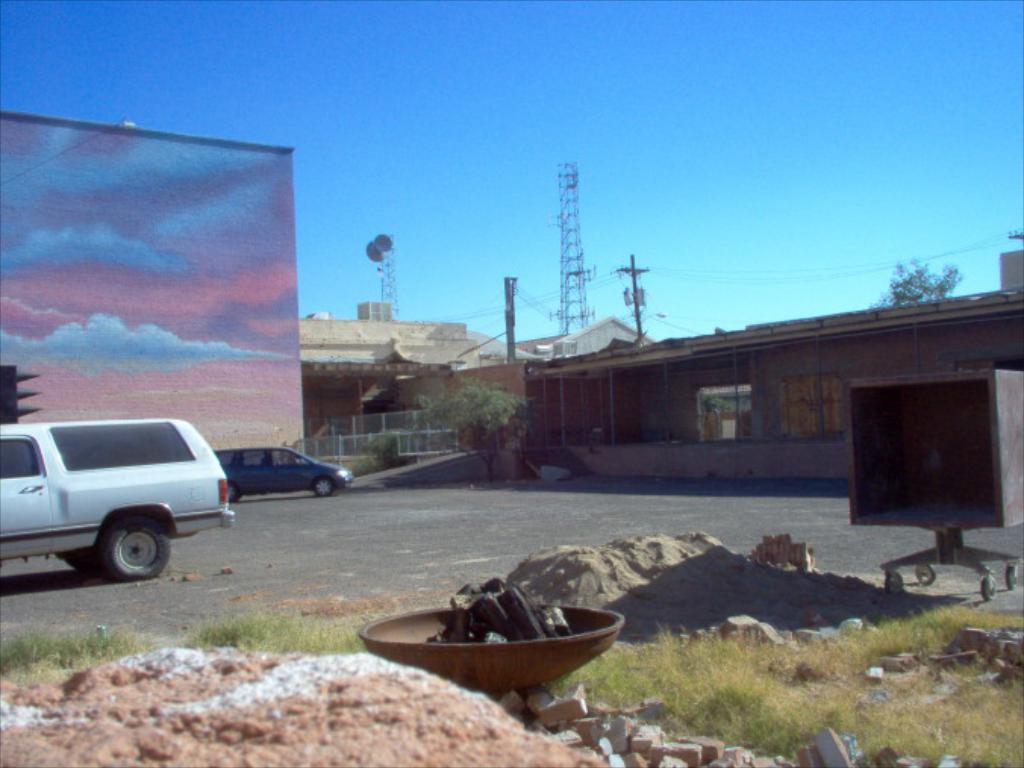Car: (0, 416, 236, 580), (213, 443, 354, 498)
